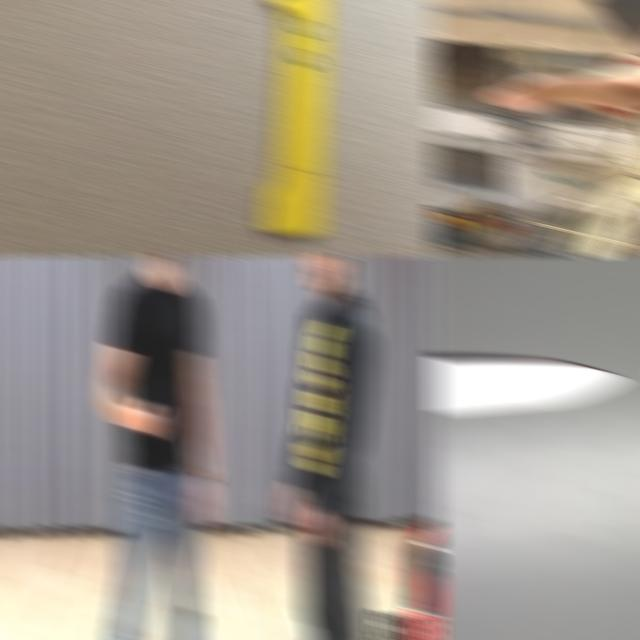Knife: (430, 357, 624, 415)
Knife_Handle: (135, 373, 166, 438)
